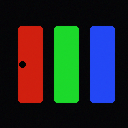0 point: (19, 61, 25, 67)
